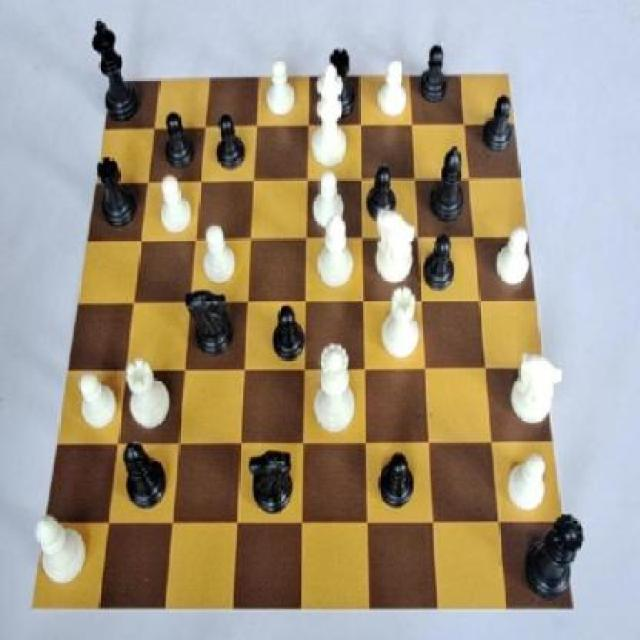bishop: (111, 437, 179, 529), (428, 130, 469, 234)
black-bishop: (82, 8, 149, 132)
black-king: (240, 437, 309, 531), (181, 287, 244, 368)
black-knight: (476, 80, 520, 168), (372, 443, 422, 519), (206, 108, 260, 178), (412, 37, 457, 115), (265, 294, 312, 368), (158, 103, 202, 179), (417, 223, 461, 297), (363, 157, 405, 233)
black-pawn: (518, 480, 594, 610)
black-queen: (90, 143, 142, 239), (323, 34, 365, 126)
black-rook: (28, 506, 97, 591), (312, 200, 365, 302)
white-bishop: (304, 57, 358, 173)
white-king: (506, 334, 567, 443), (369, 198, 422, 294)
white-knight: (488, 217, 543, 297), (502, 438, 554, 521), (68, 366, 122, 438), (195, 214, 242, 295), (302, 166, 356, 230), (372, 48, 412, 123), (152, 171, 193, 239), (263, 54, 299, 124)
white-pawn: (306, 337, 364, 441)
white-queen: (120, 348, 182, 440), (378, 282, 434, 369)
